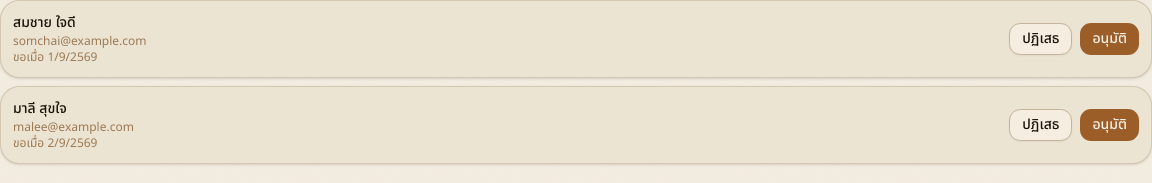
Test: PendingRequestsList › removes the row once it is resolved
Click the button "ปฏิเสธ" in the row of "สมชาย ใจดี".
click(1041, 39)  # box [1009, 23, 1072, 55]
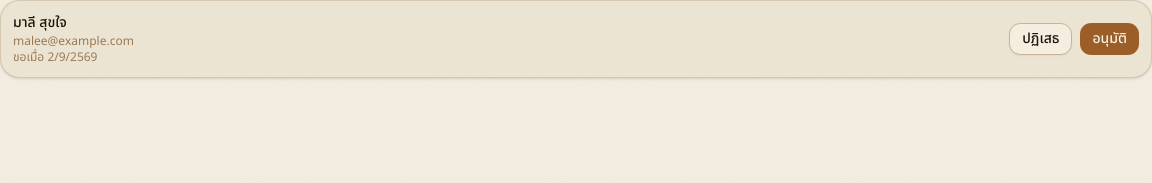
Expected: the text "มาลี สุขใจ" is shown, [13, 12, 67, 33]
Now the text "สมชาย ใจดี" is gone
